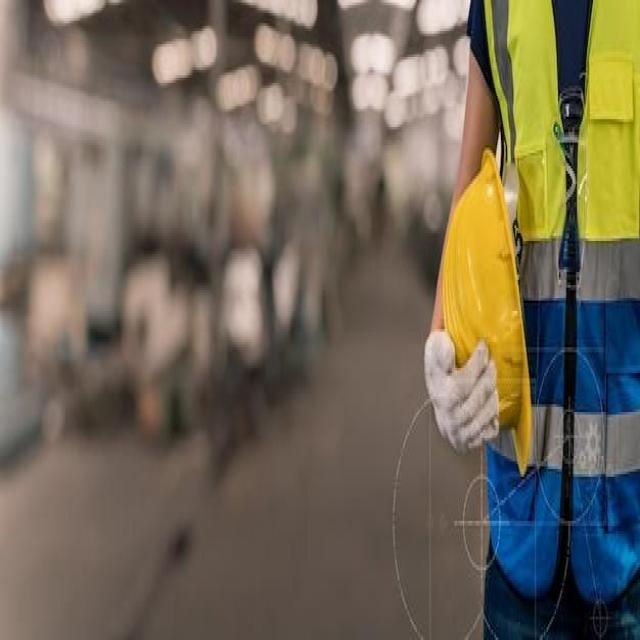reflective_jacket: (472, 1, 636, 599)
safety_helmet: (433, 144, 543, 476)
